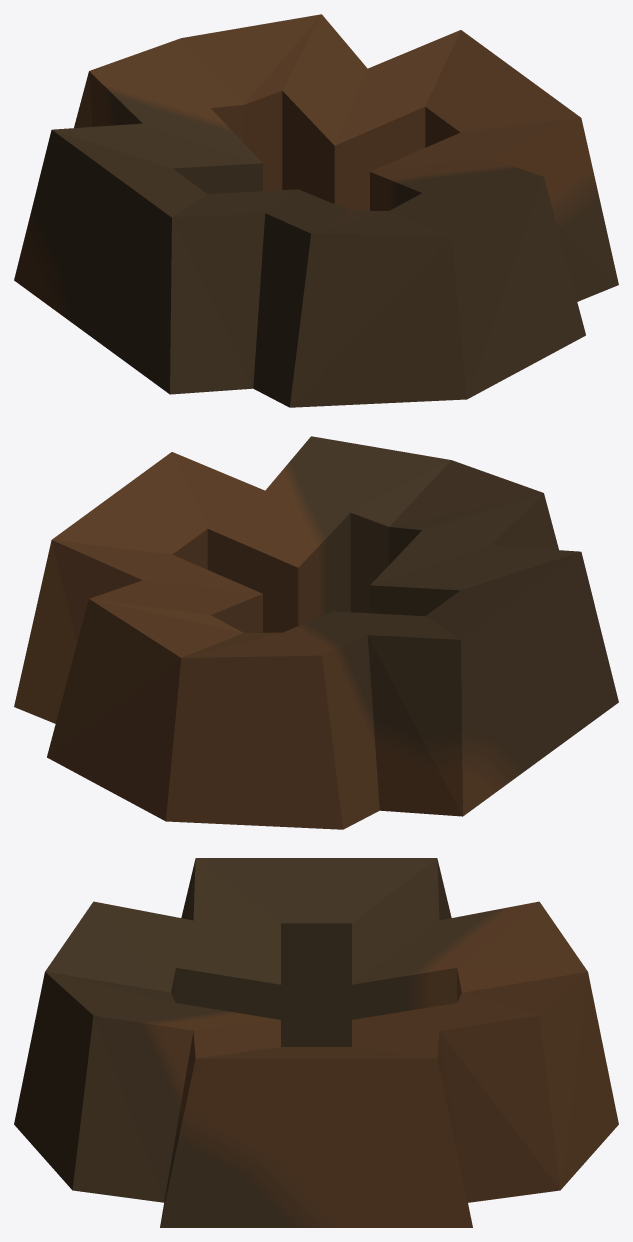
Rendered from KeyHole.FBX.
3 views of the same model, one above another, from view 1: azimuth 30°, elevation 25°; view 2: azimuth 150°, elevation 25°; view 3: azimuth 270°, elevation 25° (orthographic).
Parts seen in each view (by area): view 1: KeyHole; view 2: KeyHole; view 3: KeyHole.
Boxes of the visible parts, x1,y1,x2,y2 form: KeyHole: (14, 14, 618, 407); KeyHole: (14, 436, 618, 829); KeyHole: (14, 858, 618, 1227).
Bounding box in the file's own units: 60.49 × 26.17 × 70.3.
1 material, 1 textured.
